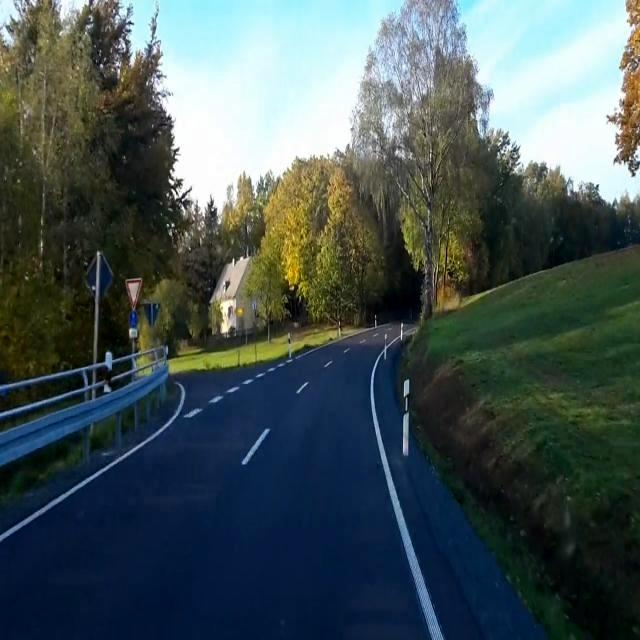lane: (1, 382, 185, 542), (370, 354, 444, 640), (241, 429, 269, 464)
road: (0, 326, 430, 639), (373, 341, 545, 639)
